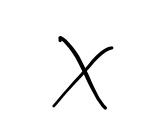mult: (52, 35, 114, 110)
